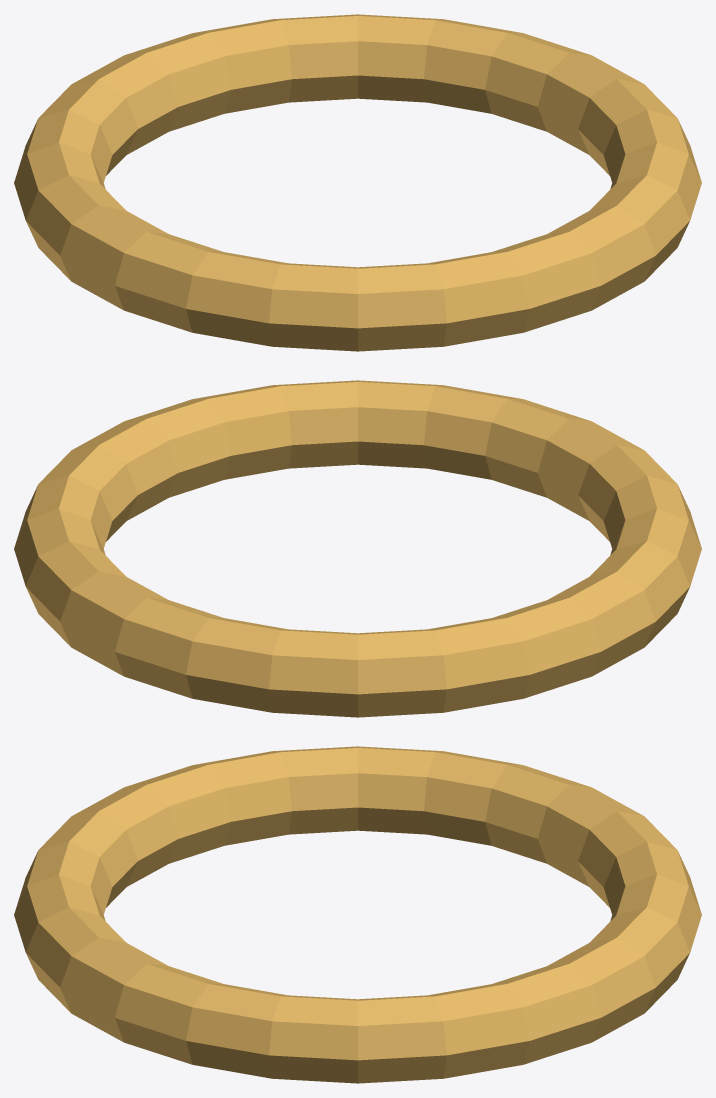
The picture shows the model from 3 angles, top to bottom: view 1: azimuth 30°, elevation 25°; view 2: azimuth 150°, elevation 25°; view 3: azimuth 270°, elevation 25°; orthographic projection.
Parts seen in each view (by area): view 1: トーラス.001; view 2: トーラス.001; view 3: トーラス.001.
Boxes of the visible parts, x1,y1,x2,y2 form: トーラス.001: (14, 14, 701, 351); トーラス.001: (14, 380, 701, 717); トーラス.001: (14, 746, 701, 1083).
Size of the model in its own units: 230 by 30 by 230.
